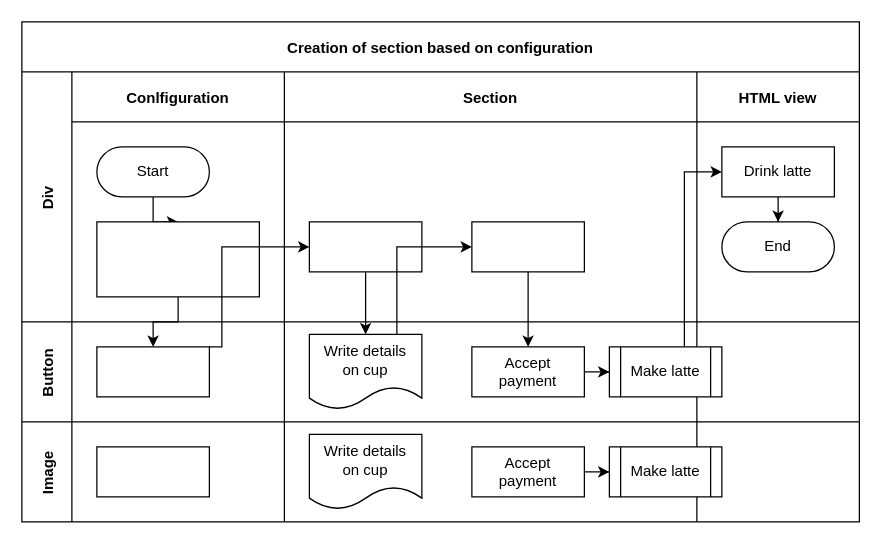
Image size: 881x544. Some labels were removed from this diagram. The shapes that lost their labels are listed below. From the top down, each one's centre as x and y in pixels, then its label:
At (177,259): "Select div record from ConfigurationElement collection".
At (365,246): "Request latte".
At (527,246): "Buy latte".
At (152,371): "Select Button element from ConfigurationElement collection".
At (152,471): "Select Image entry from ConfigurationElement collection".
